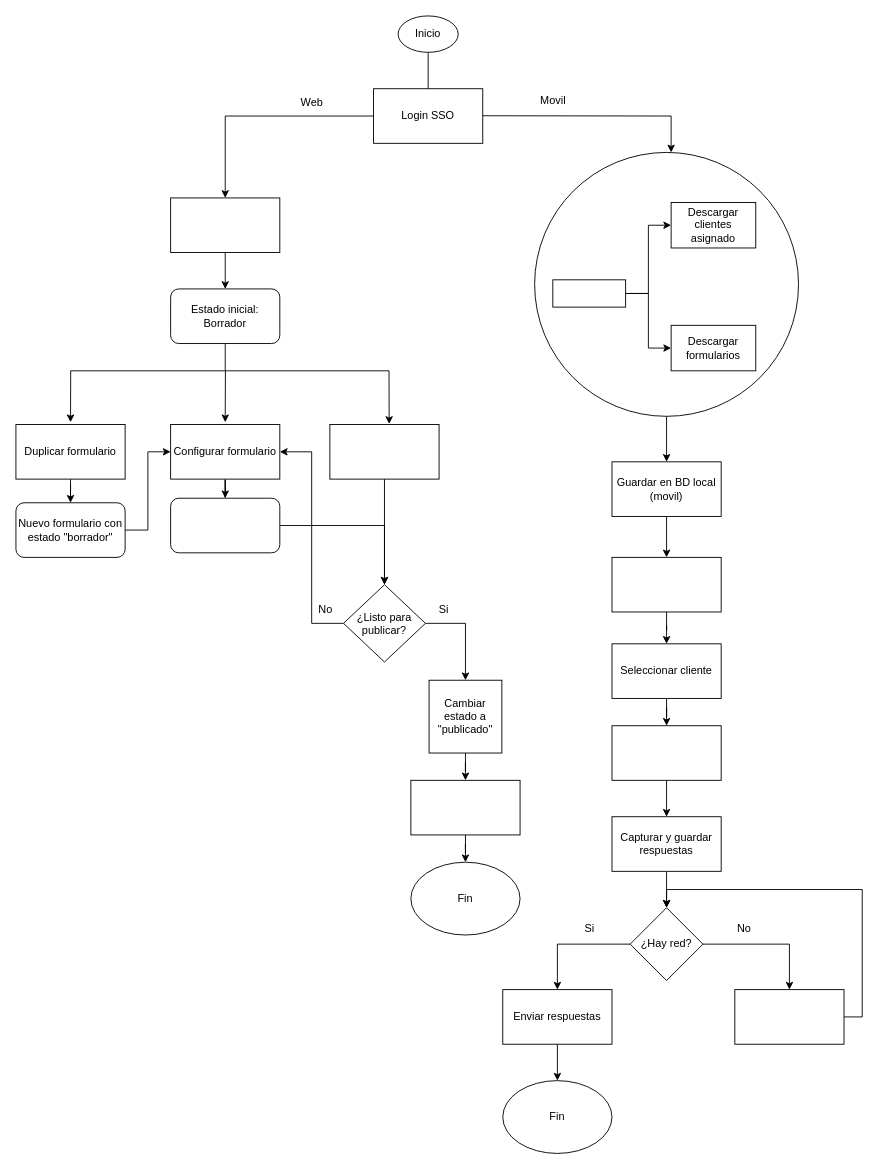
Image size: 885x1169. Some labels were removed from this diagram. Each missing label, with the box of its shape:
Bandeja de clientes asignados: (611, 556, 721, 612)
CRUD Formulario: (170, 197, 280, 253)
Enviar formulario a la app movil: (410, 779, 520, 835)
Guardar localmente (pendiente de envio): (734, 989, 844, 1044)
Nueva version del formulario: (170, 497, 280, 553)
Publicar Formulario: (329, 424, 439, 479)
Renderizar formulario descargado: (611, 725, 721, 780)
Sincronizar datos del dia: (552, 279, 626, 307)
